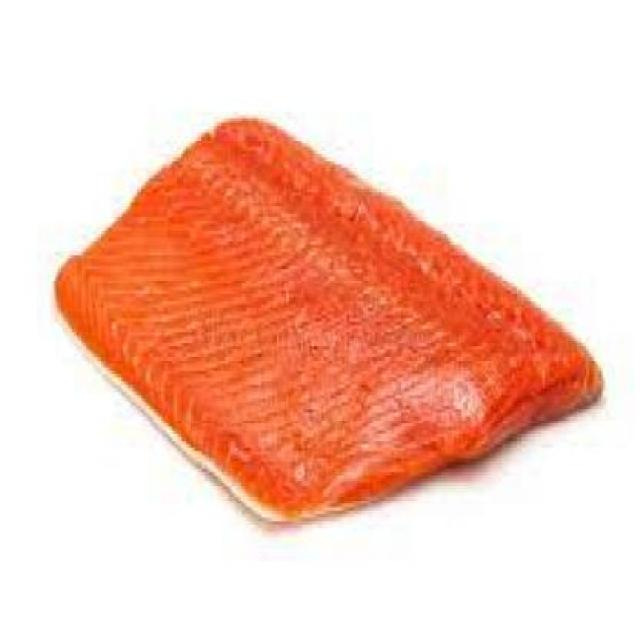salmon: (37, 109, 621, 529)
